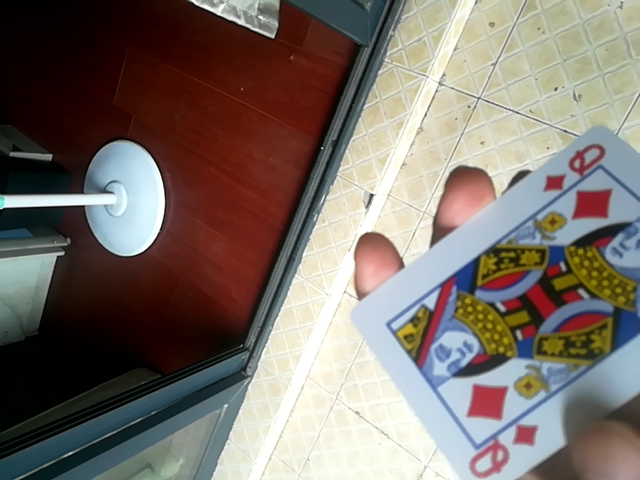fk q: (341, 134, 634, 480)
